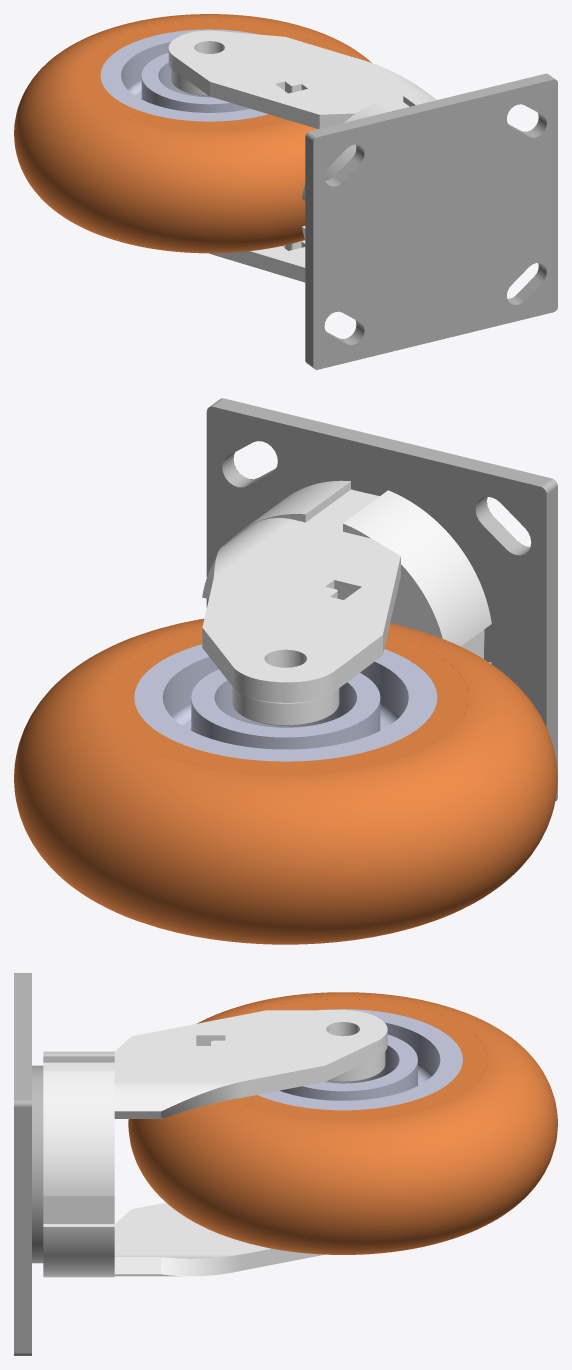
Rendered from wheel_caster_group.dae.
The picture shows the model from 3 angles, top to bottom: view 1: azimuth 30°, elevation 25°; view 2: azimuth 150°, elevation 25°; view 3: azimuth 270°, elevation 25°; orthographic projection. The views are drawn at different scales.
Visible parts, largest first — view 1: Brep (×19); view 2: Brep (×25); view 3: Brep (×27).
Part boxes in pixels (x1,y1,x2,y2): Brep (×19): [14, 14, 557, 369]; Brep (×25): [14, 398, 557, 944]; Brep (×27): [14, 973, 557, 1352].
Size of the model in its own units: 0.1655 by 0.1929 by 0.1.
